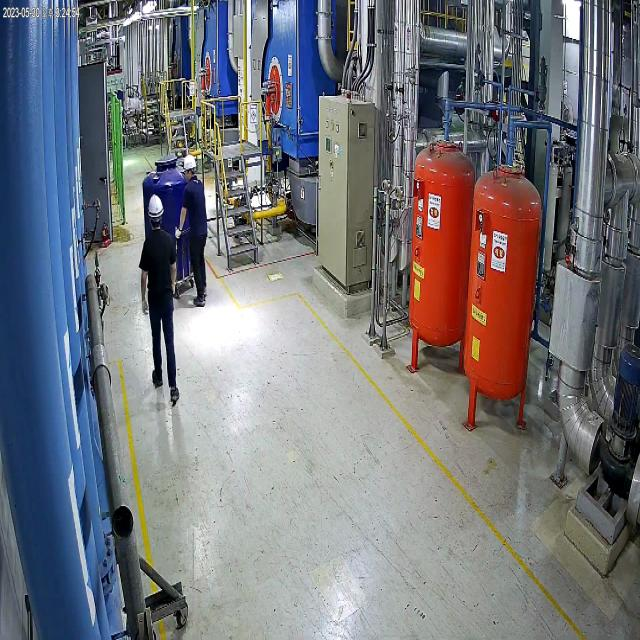Water Tank: (140, 155, 197, 299)
worker: (136, 184, 181, 420), (174, 149, 214, 320)
